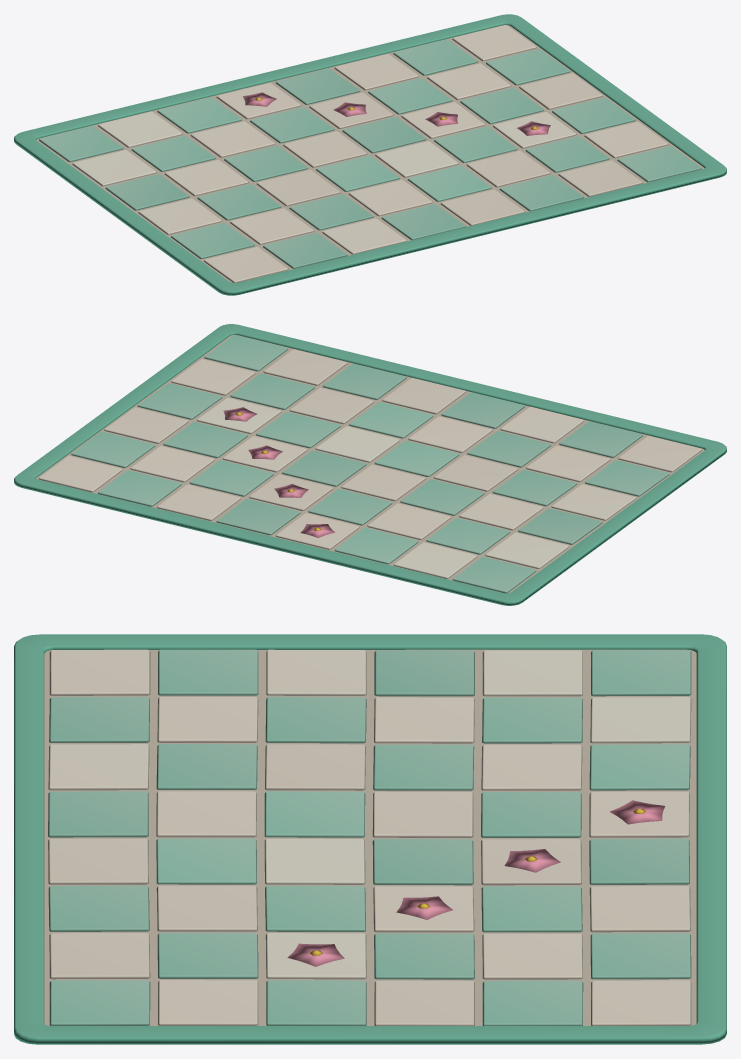
Rendered from furn-tileMat.glb.
The picture shows the model from 3 angles, top to bottom: view 1: azimuth 30°, elevation 25°; view 2: azimuth 150°, elevation 25°; view 3: azimuth 270°, elevation 25°; orthographic projection. The views are drawn at different scales.
Visible parts, largest first — view 1: furn-tileMat; view 2: furn-tileMat; view 3: furn-tileMat.
Boxes of the visible parts, x1,y1,x2,y2 form: furn-tileMat: (14,14,726,295); furn-tileMat: (14,324,726,605); furn-tileMat: (14,634,726,1044).
Size of the model in its own units: 1.96 by 0.0221 by 1.46.
